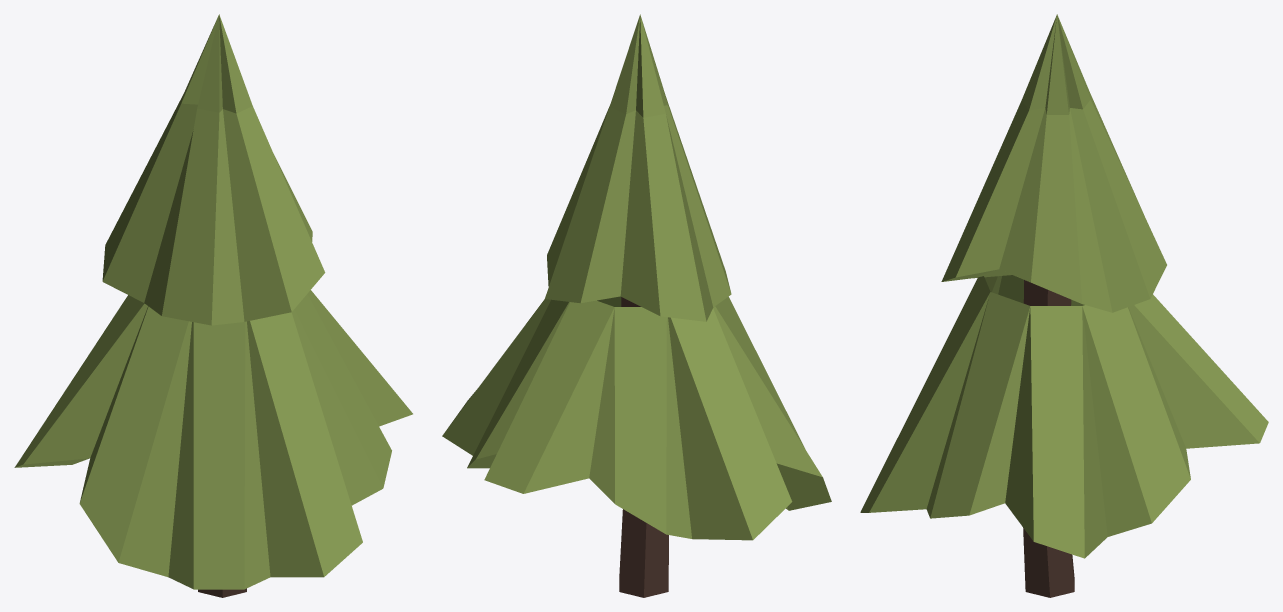
Rendered from Tree_Type2_01.glb.
3 views of the same model, side by side, from view 1: azimuth 30°, elevation 25°; view 2: azimuth 150°, elevation 25°; view 3: azimuth 270°, elevation 25° (orthographic).
Visible parts, largest first — view 1: Tree Type2 01 Model; view 2: Tree Type2 01 Model; view 3: Tree Type2 01 Model.
Part boxes in pixels (bbox=[...]): Tree Type2 01 Model: bbox=[14, 14, 412, 597]; Tree Type2 01 Model: bbox=[442, 14, 831, 597]; Tree Type2 01 Model: bbox=[860, 14, 1268, 597].
Size of the model in its own units: 1.29 by 1.97 by 1.28.
1 material, 1 textured.
